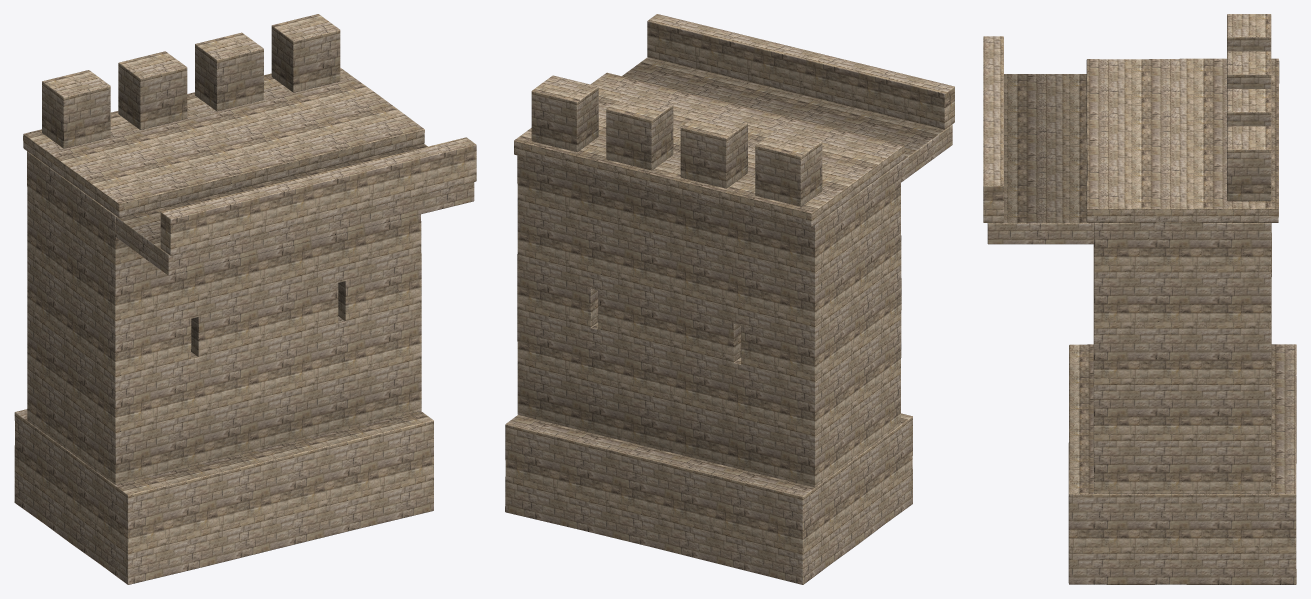
Rendered from w_seg.glb.
3 renders of one model, left to right at view 1: azimuth 30°, elevation 25°; view 2: azimuth 150°, elevation 25°; view 3: azimuth 270°, elevation 25°, orthographic. The views are drawn at different scales.
Visible parts, largest first — view 1: seg; view 2: seg; view 3: seg.
Part boxes in pixels (left/top/right/bottom): seg: left=14, top=14, right=476, bottom=584; seg: left=505, top=14, right=954, bottom=584; seg: left=983, top=14, right=1296, bottom=584.
Size of the model in its own units: 12.04 by 16.01 by 10.61.
1 material, 1 textured.
